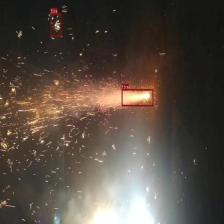fire: (122, 89, 153, 106), (50, 13, 61, 36)
